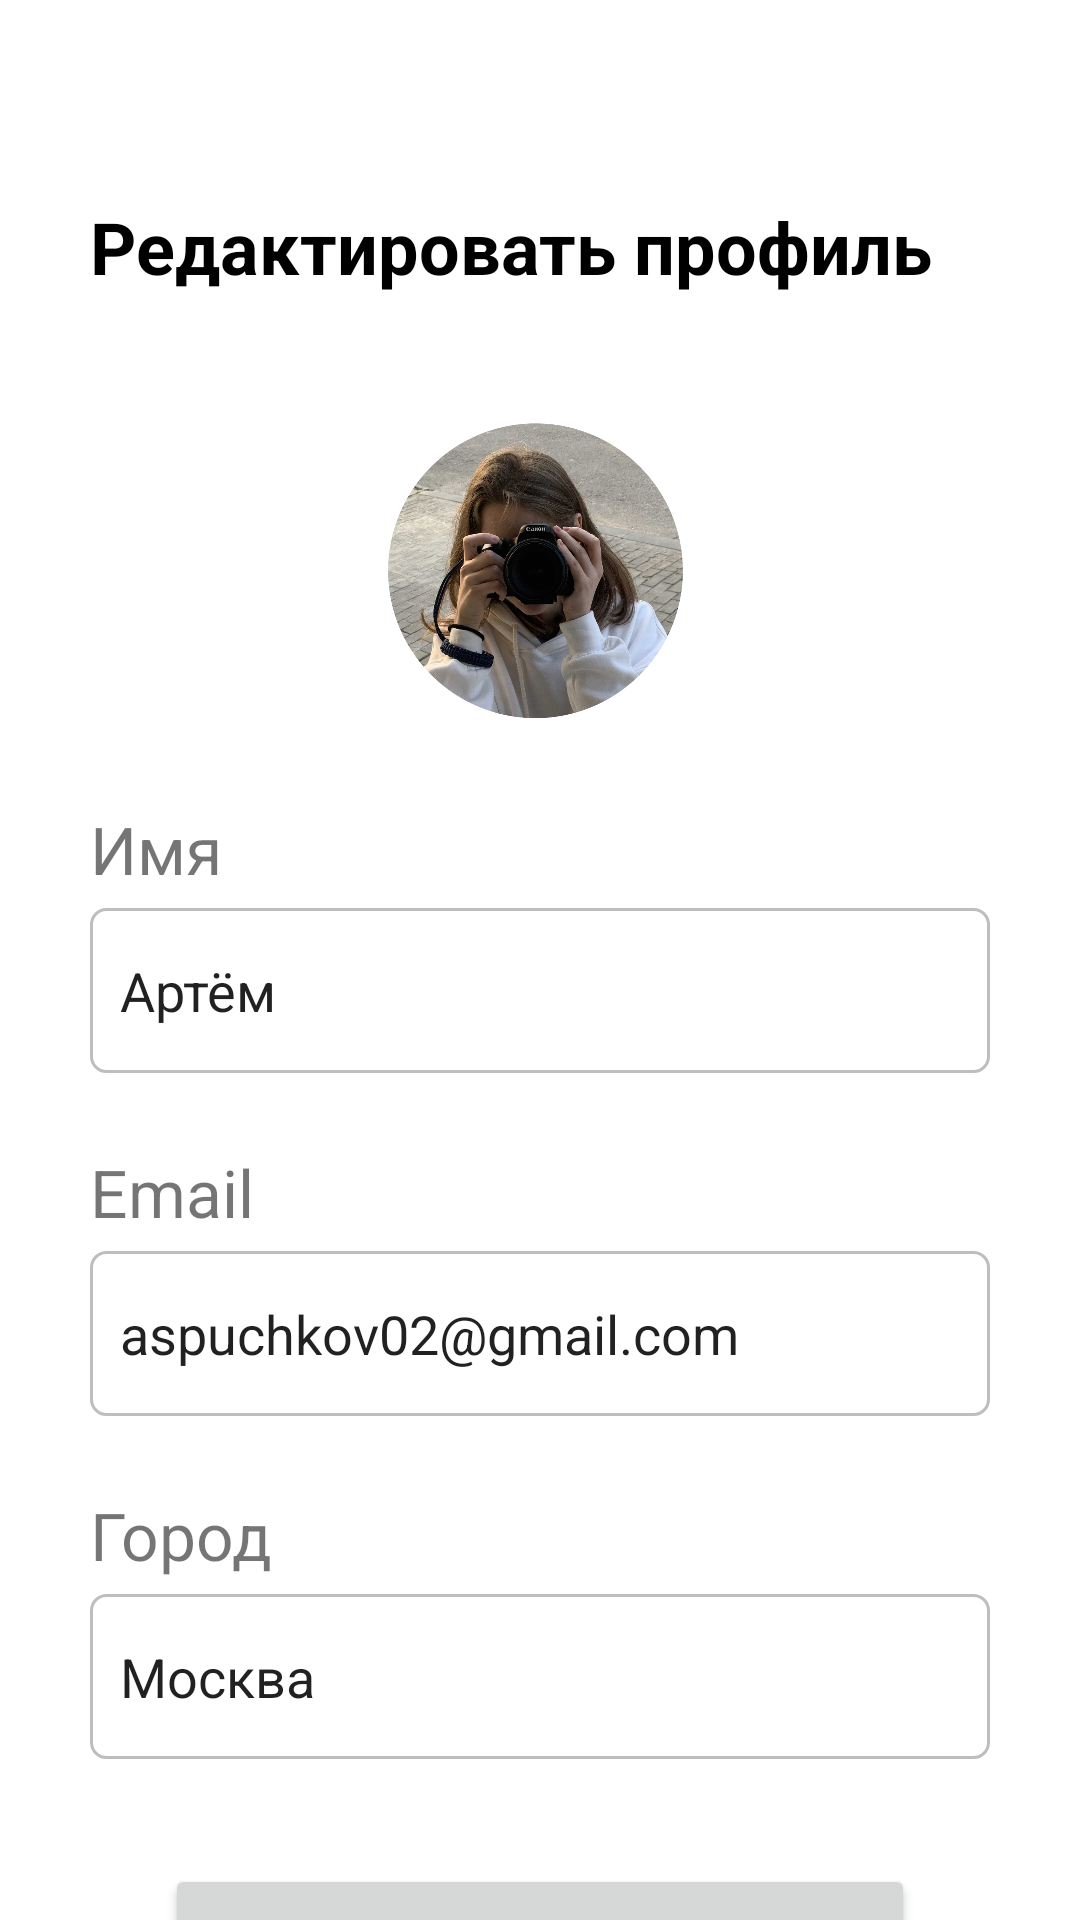

Icon bounding boxes for this 1080*1920 phone screenshot, format (x1, y1, x2, y2):
profile: (388, 423, 683, 718)
